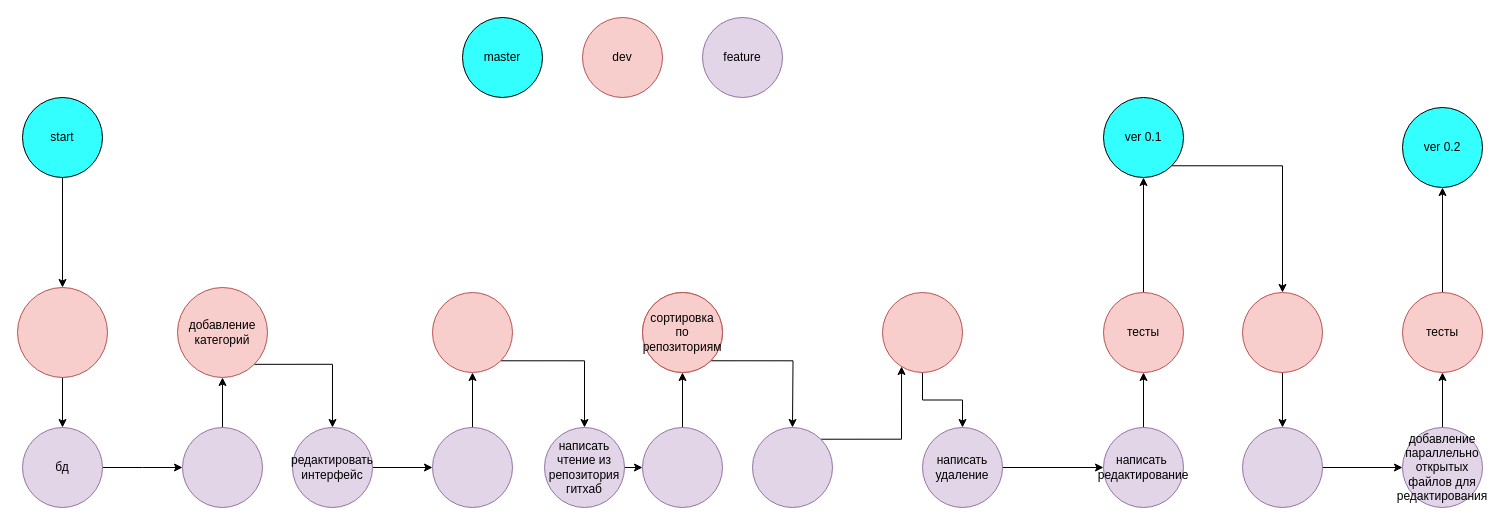
This 1505x525 diagram has some shape labels left out. Each missing label, with the centre of its shape:
"возможность клонирования" belongs at pixel 682 467.
"гитхаб" belongs at pixel 472 332.
"добавить лейблы" belongs at pixel 472 467.
"добавление заметок" belongs at pixel 62 332.
"добавление стилизации" belongs at pixel 1282 332.
"интерфейс" belongs at pixel 222 467.
"написать сортировку" belongs at pixel 792 467.
"распознавание языков программирования" belongs at pixel 1282 467.
"удал/ редакт" belongs at pixel 922 332.
